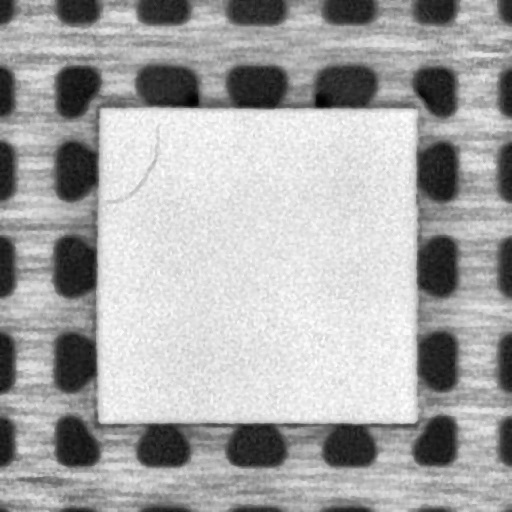DIE_CRACK: (103, 122, 162, 204)
